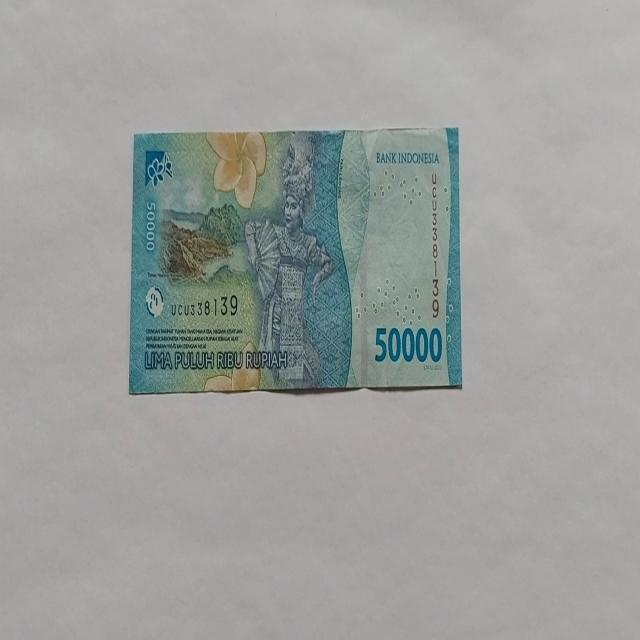lima puluh ribu rupiah: (128, 126, 462, 395), (243, 143, 334, 389), (373, 324, 443, 366)
